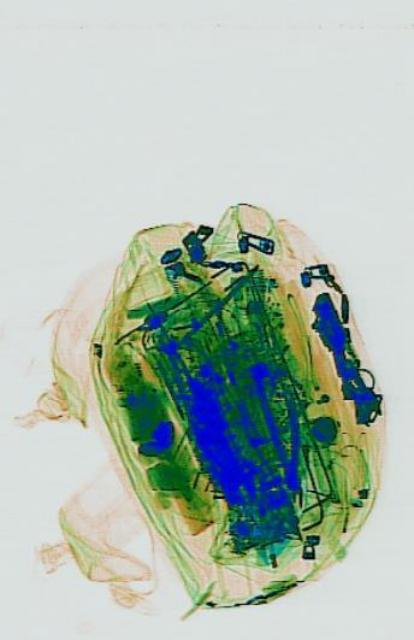Pliers: (251, 367, 310, 499)
